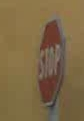stop: (30, 10, 72, 115)
